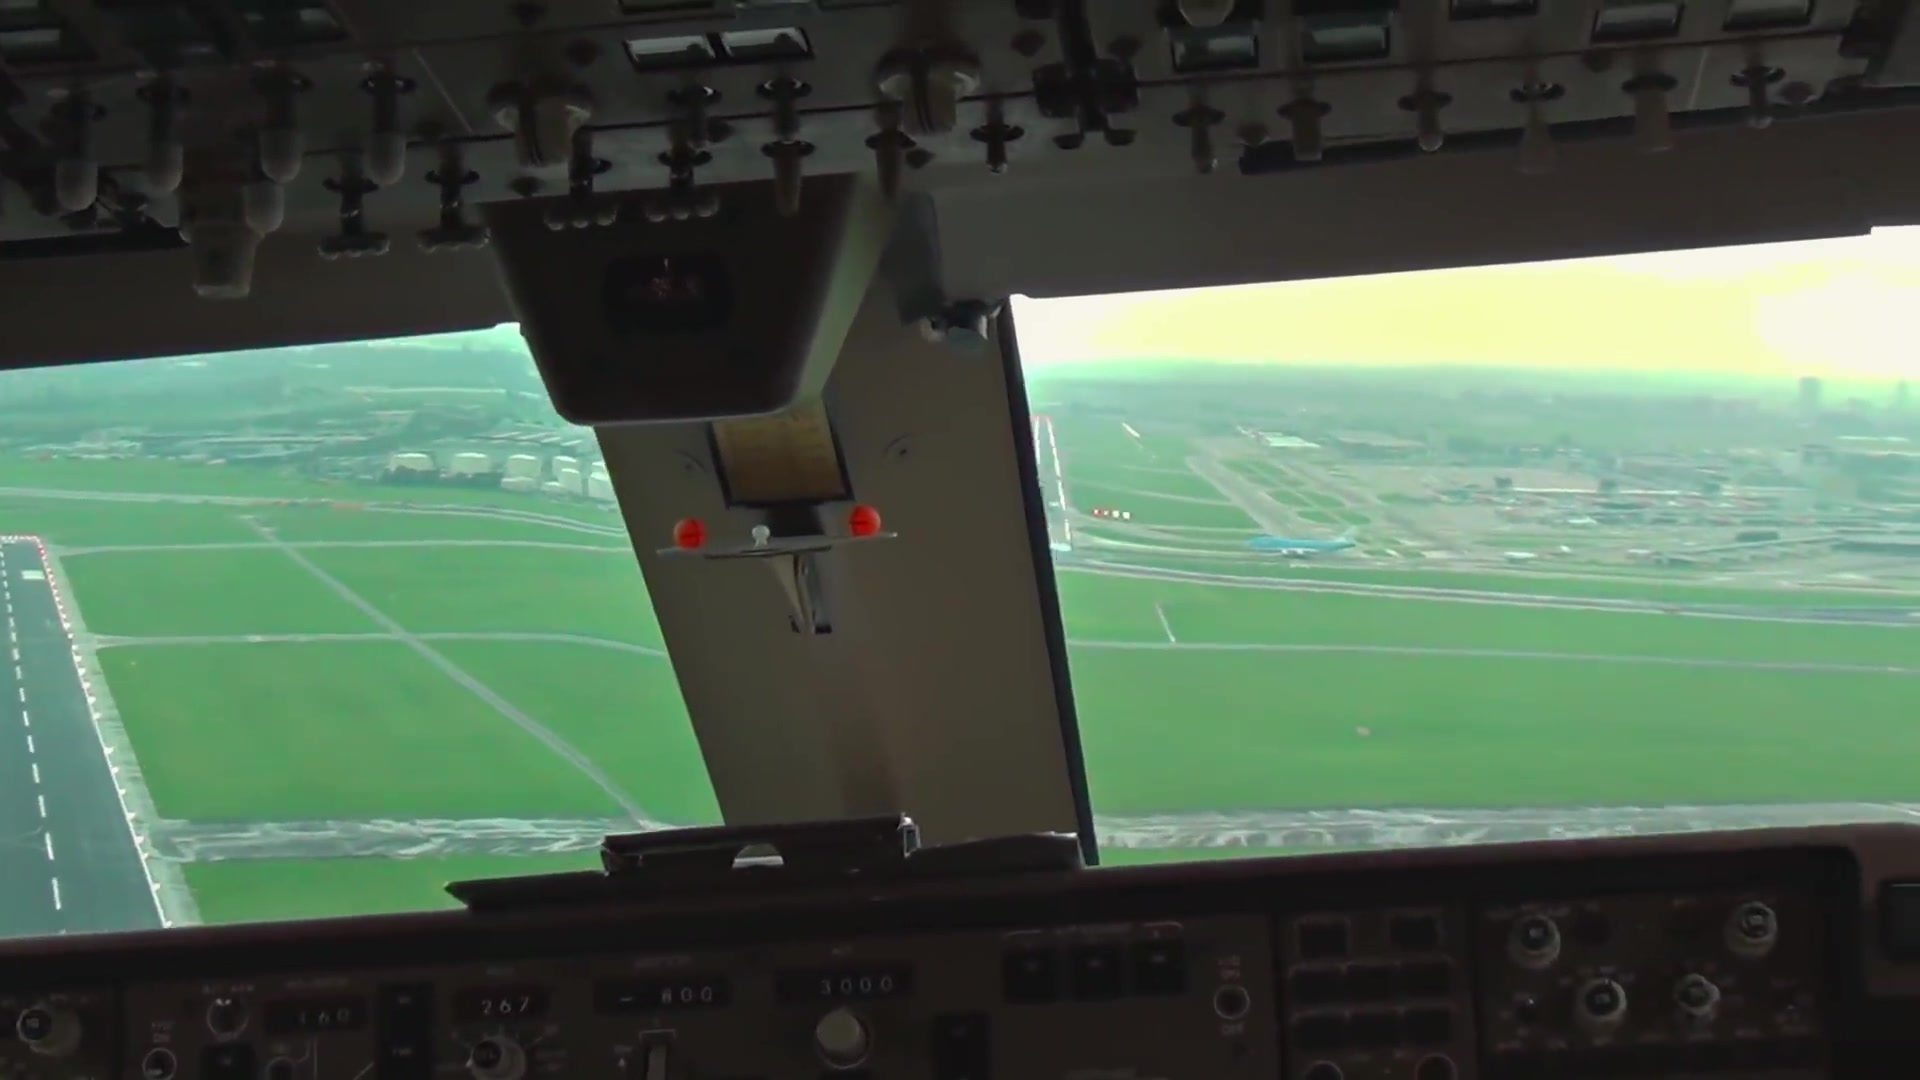runway: (1, 531, 166, 948)
